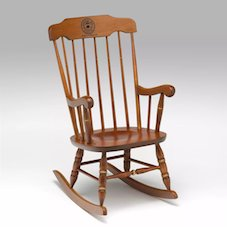chair: (27, 8, 188, 220)
